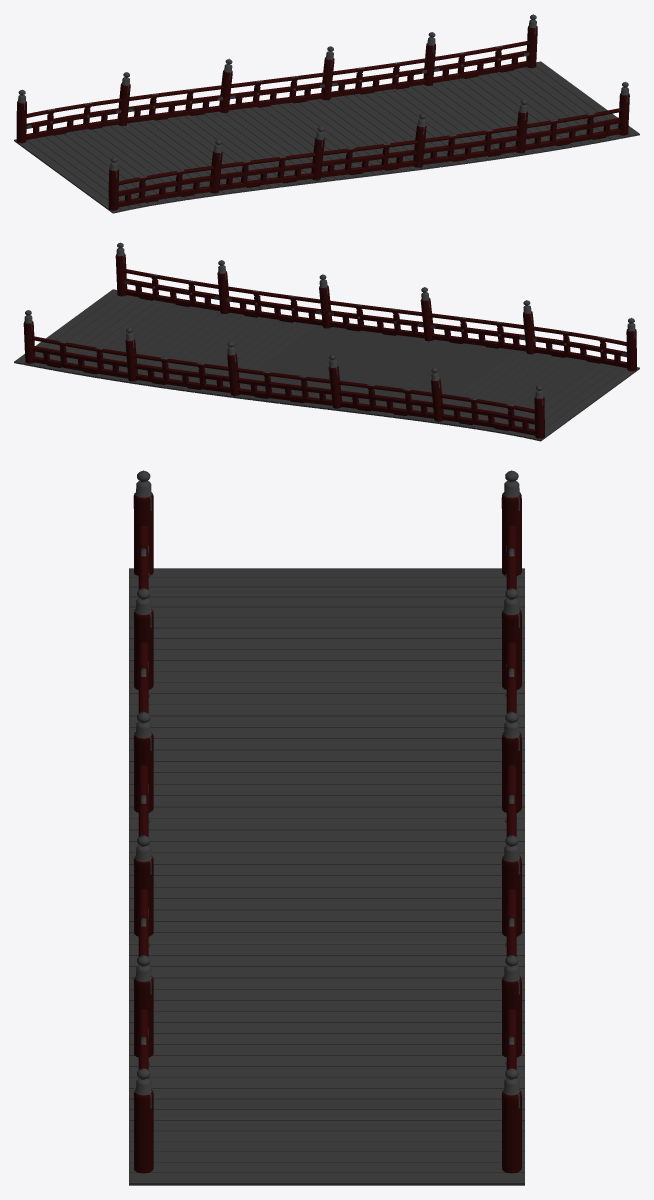
Rendered from SM_JapaneseBridge2.FBX.
3 renders of one model, top to bottom at view 1: azimuth 30°, elevation 25°; view 2: azimuth 150°, elevation 25°; view 3: azimuth 270°, elevation 25°, orthographic. The views are drawn at different scales.
Parts seen in each view (by area): view 1: SM_JapaneseBridge2; view 2: SM_JapaneseBridge2; view 3: SM_JapaneseBridge2.
Boxes of the visible parts, <box> form: SM_JapaneseBridge2: <box>14,14,639,213</box>; SM_JapaneseBridge2: <box>14,242,639,441</box>; SM_JapaneseBridge2: <box>129,470,524,1185</box>.
Size of the model in its own units: 634 by 206 by 118.
